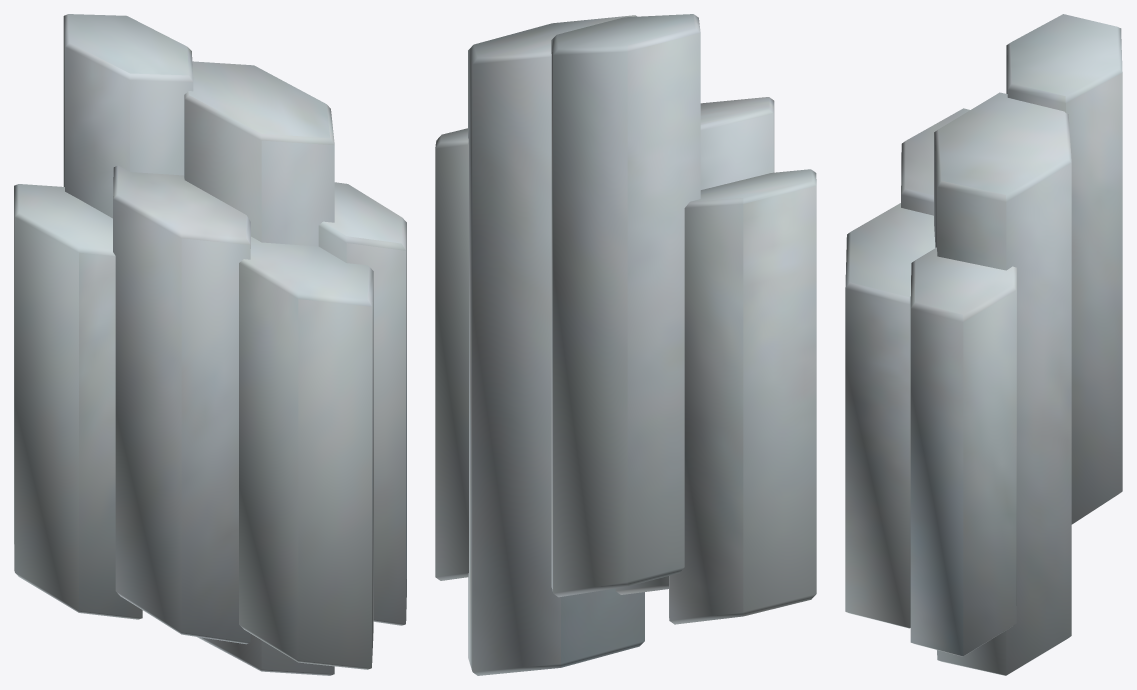
The model's file is P_RockHexic_RockSlanted04.obj.
3 renders of one model, left to right at view 1: azimuth 30°, elevation 25°; view 2: azimuth 150°, elevation 25°; view 3: azimuth 270°, elevation 25°, orthographic. The views are drawn at different scales.
Bounding box in the file's own units: 10.47 × 17.44 × 7.77.
